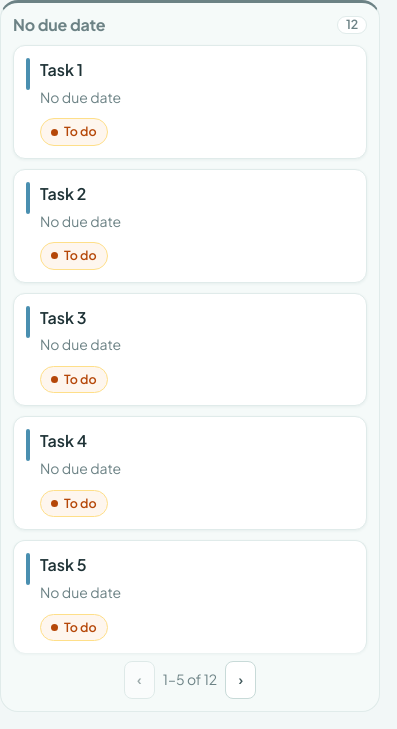
it: TaskBoard pages › shows 5 cards per lane and pages through the rest with ‹ ›
The image size is (397, 729).
Check: the text with class "count" reads "12", box [346,16,358,32]
Check: the text "1–5 of 12" is shown, box [163,669,217,691]
Click the button named "Next page": coordinates (241, 680) [225,661,256,699]
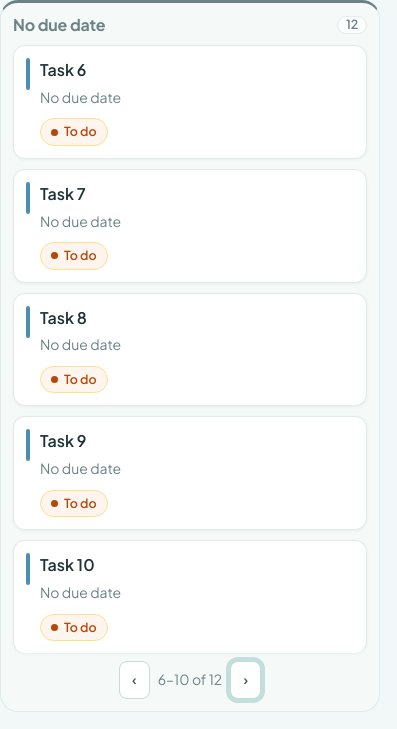
Click the button named "Next page": coordinates (246, 680) [230,661,261,699]
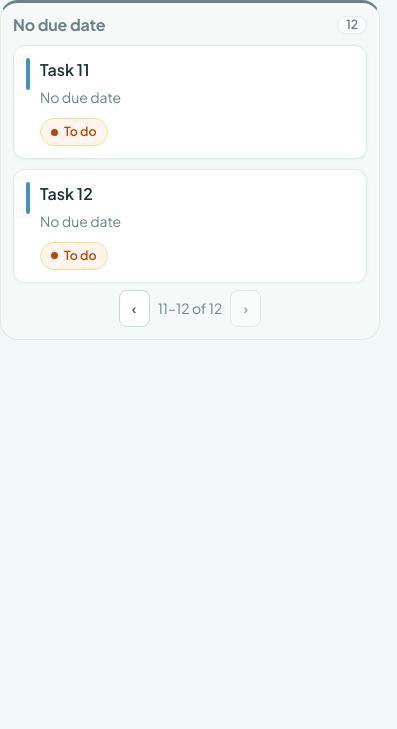
Check: the text "11–12 of 12" is shown, box [158,298,222,319]
Check: the button named "Next page" is disabled, box [230,290,261,327]
